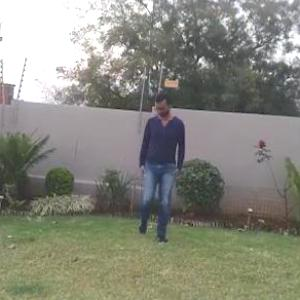follow: (137, 87, 188, 250)
